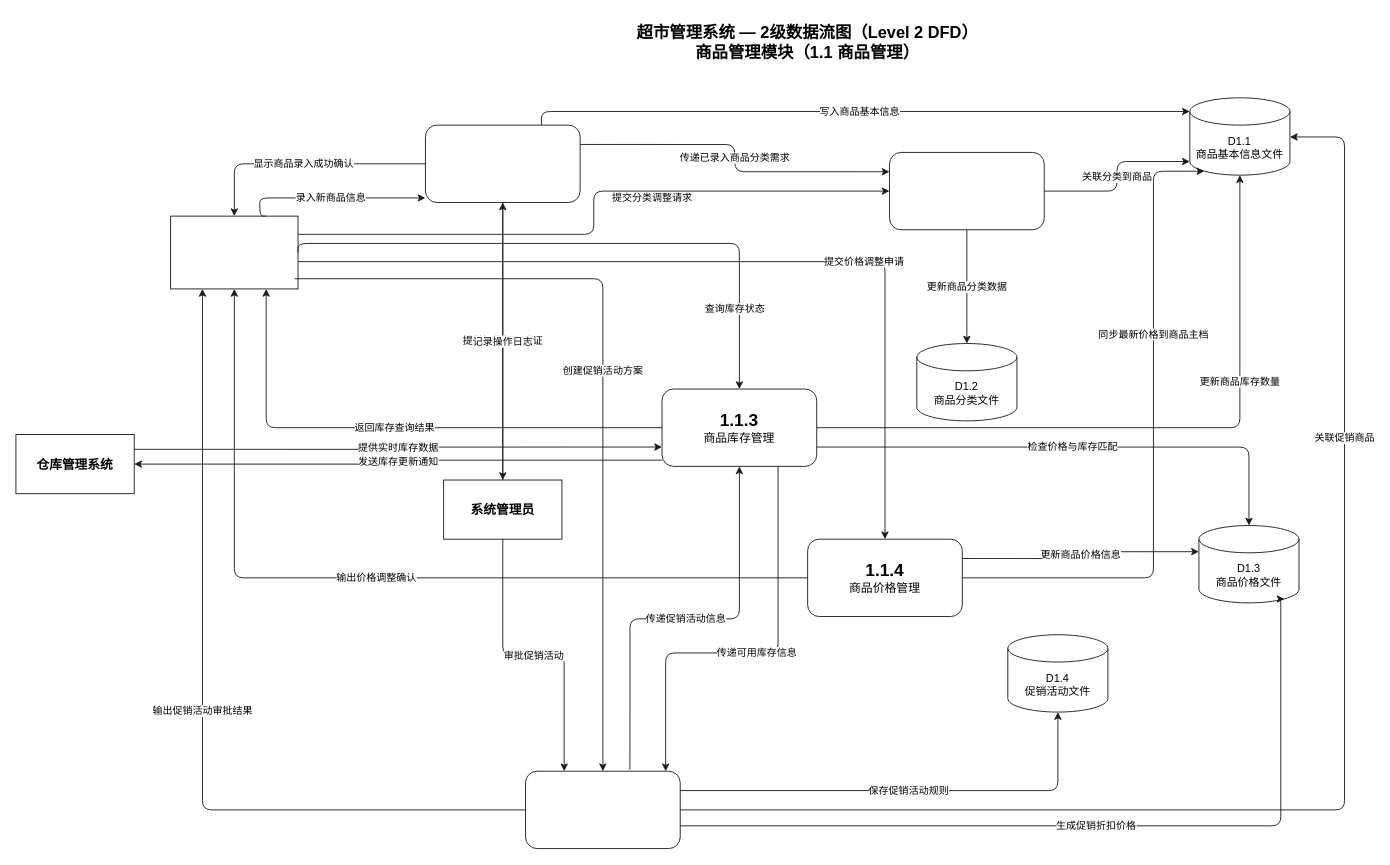
Image size: 1390x865. Some labels were removed from this diagram. Here are the shapes that lost their labels. From the top down, the centre of each, then its label:
At (502,163): "1.1.1 商品信息录入".
At (966,191): "1.1.2 商品分类管理".
At (234,252): "员工".
At (602,809): "1.1.5 促销活动管理".
